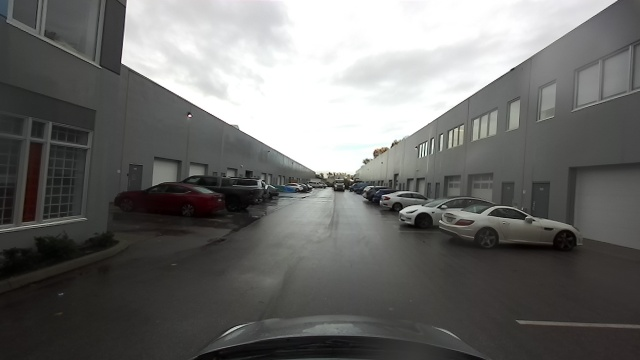car: (437, 204, 584, 247), (113, 183, 225, 222), (398, 201, 438, 231), (225, 173, 260, 206), (380, 188, 429, 209), (360, 186, 379, 204), (264, 183, 279, 201), (284, 182, 304, 193), (332, 179, 346, 190), (309, 181, 325, 188)
